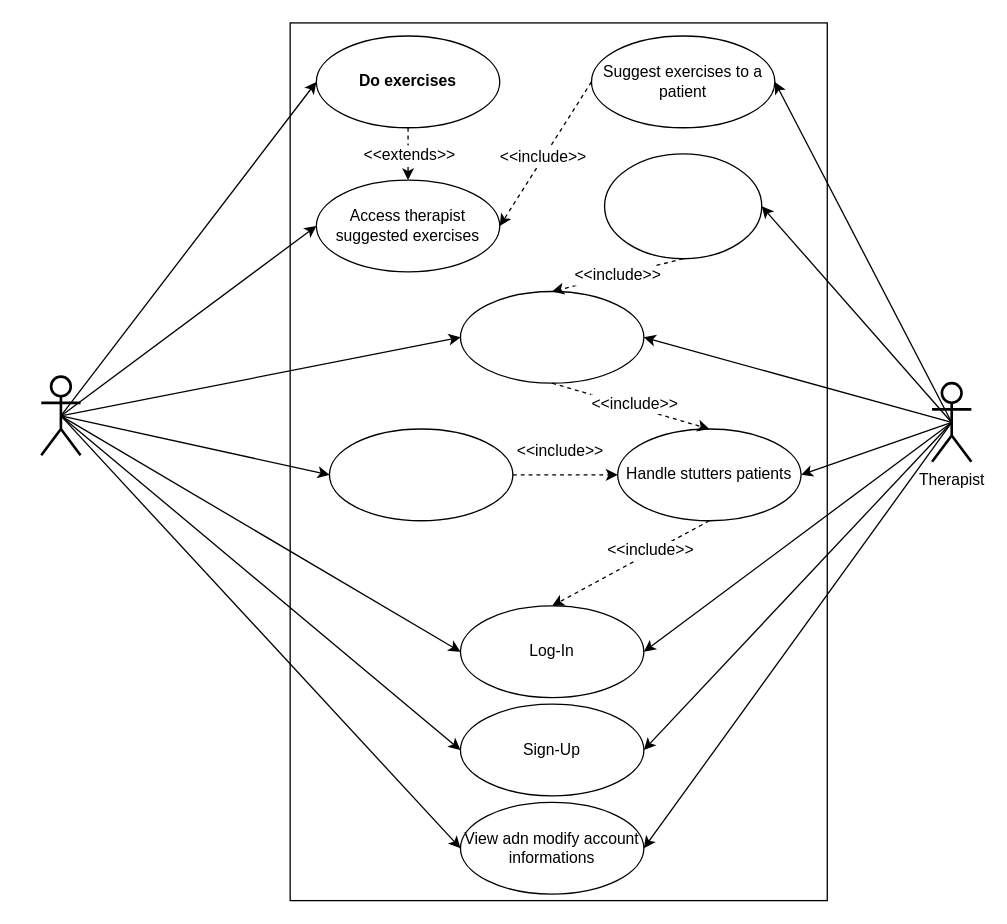
The diagram is 1007 pixels wide and 924 high, and some of its shapes have lost their labels. The shapes that lost their labels are listed below. From the top down, each one's box as (x1, y1, x2, y2) in pixels, then its label:
(603, 153, 762, 259): Rate exercices or give feeback
(459, 290, 644, 383): View user progression and results / feedback
(39, 375, 81, 456): Sutter user
(328, 428, 513, 521): Handle allowed therapists
